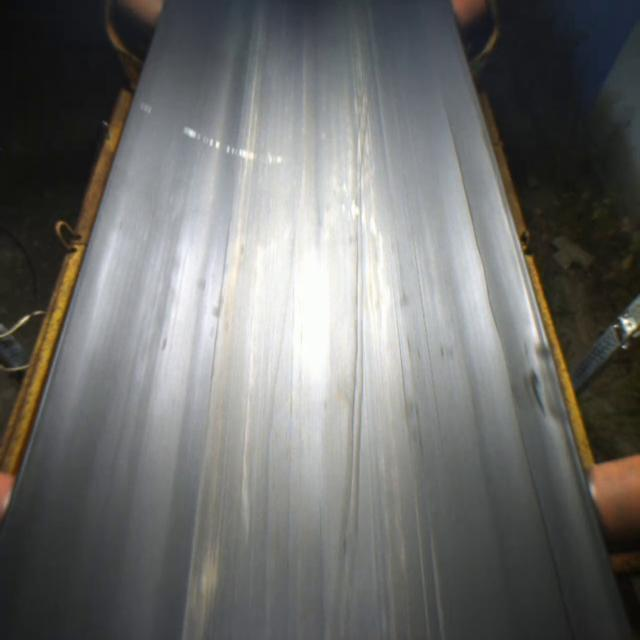Tear: (431, 100, 582, 629), (328, 95, 378, 570)
